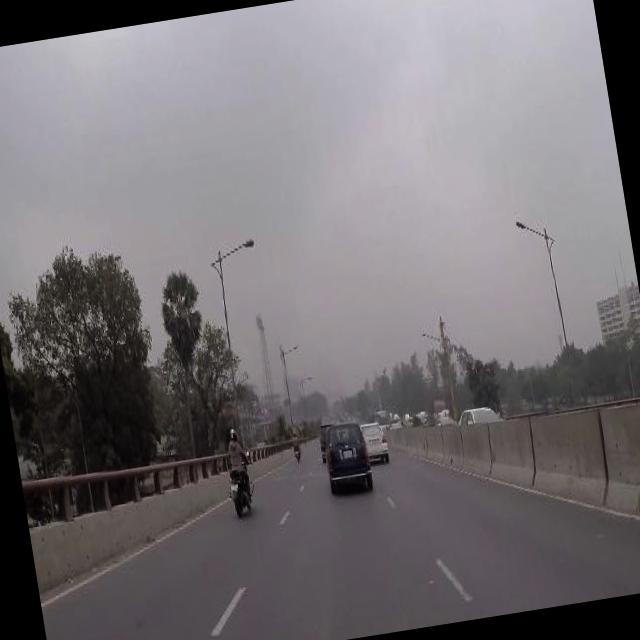bus: (374, 406, 391, 428)
car: (320, 419, 374, 493), (360, 420, 390, 460), (454, 402, 500, 426), (434, 416, 454, 426), (389, 420, 401, 430)
motorcycle: (223, 452, 259, 514), (288, 432, 302, 461)
